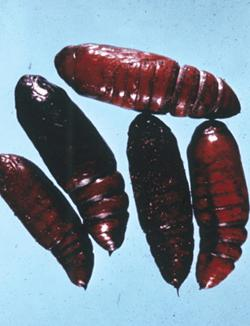pupa: (11, 61, 134, 263), (51, 36, 247, 120), (121, 105, 200, 303), (2, 149, 101, 298), (181, 109, 249, 290)
